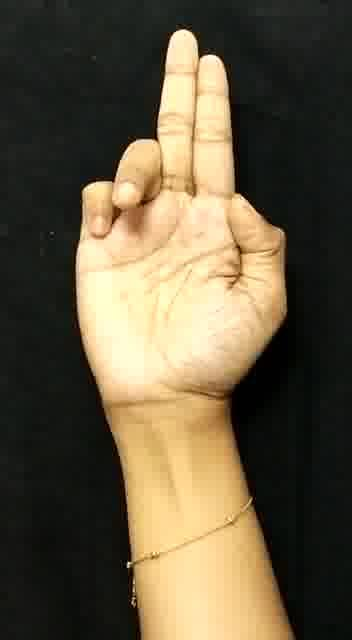ardhpataka: (63, 21, 295, 395)
